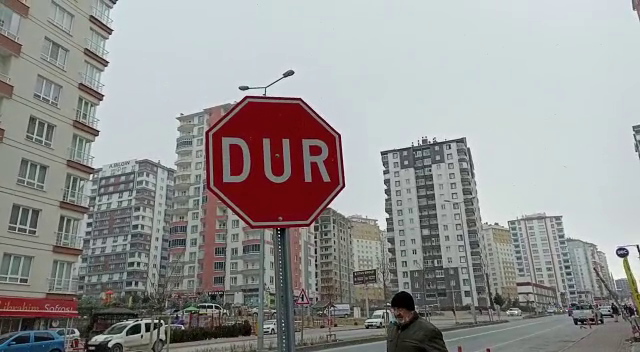stop: (204, 94, 347, 231)
